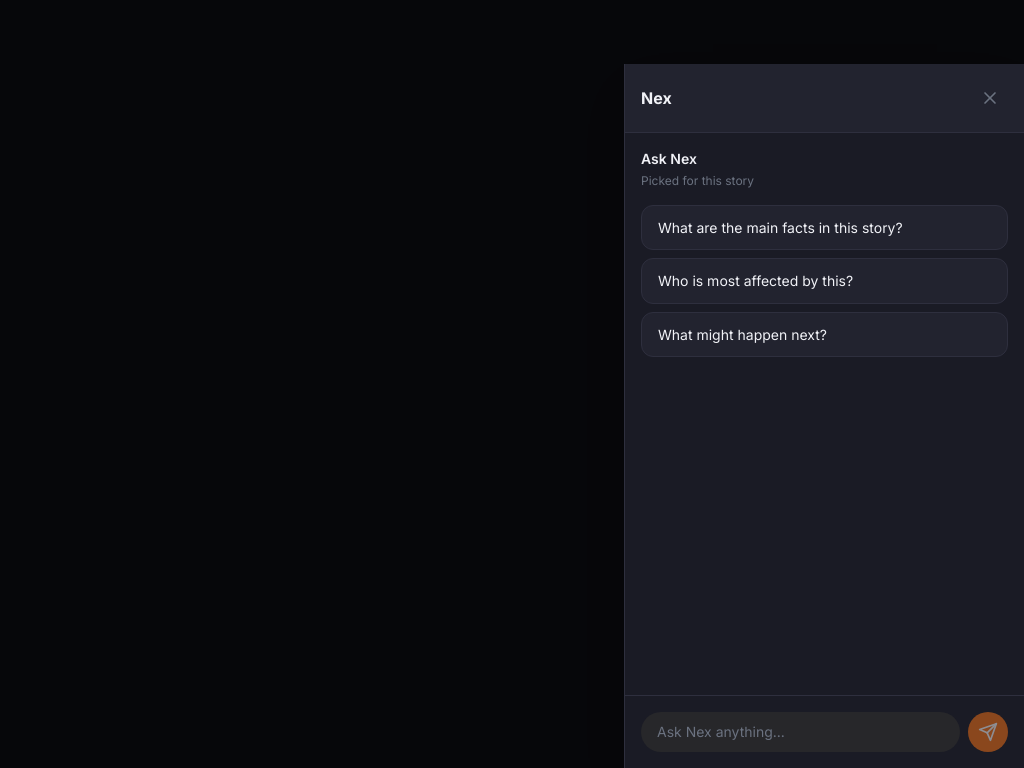
Test case: SlideOutChatPanel › sending messages (optimistic UI) › shows user message bubble immediately on send
Type "Tell me more" into the field with placeholder "Ask Nex anything..." at (800, 732), box x1=641 y1=712 x2=960 y2=752
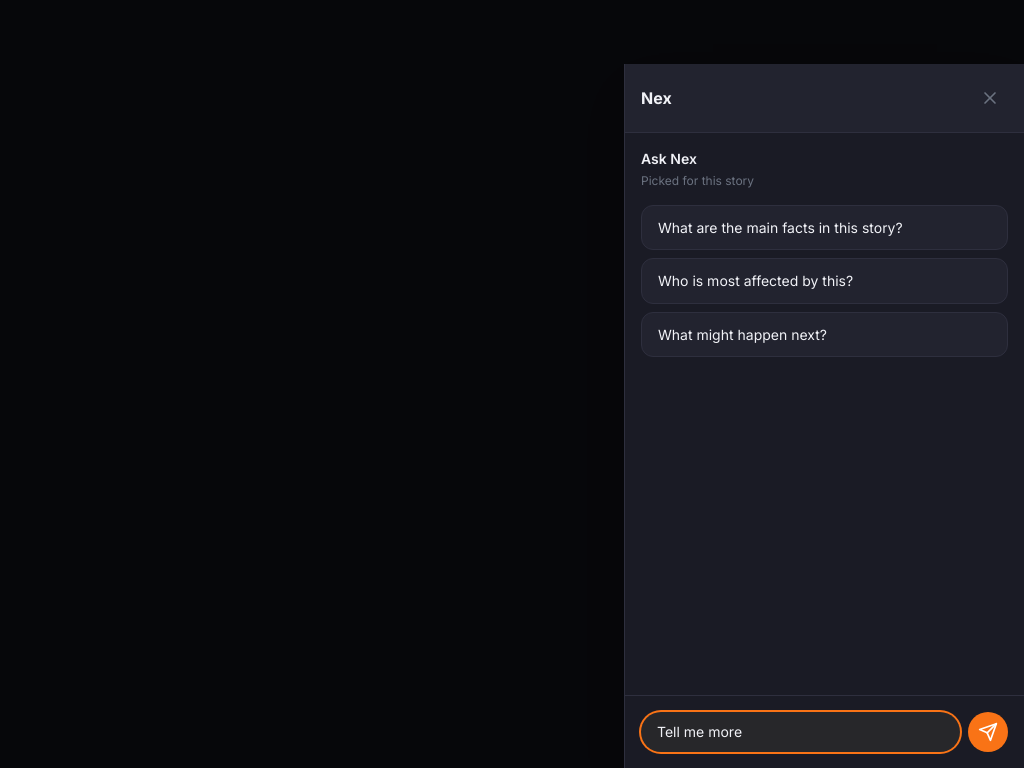
Click the button named "Send message" at (988, 732), box x1=968 y1=712 x2=1008 y2=752
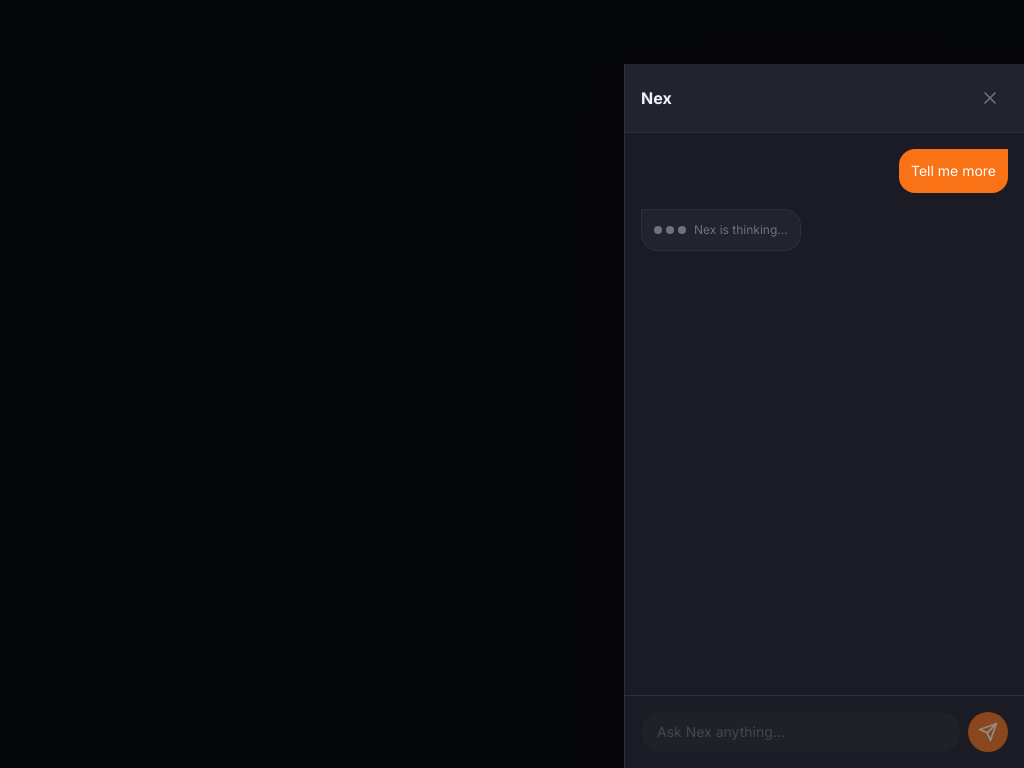
Now the text "Tell me more" is shown, box x1=899 y1=149 x2=1008 y2=193
